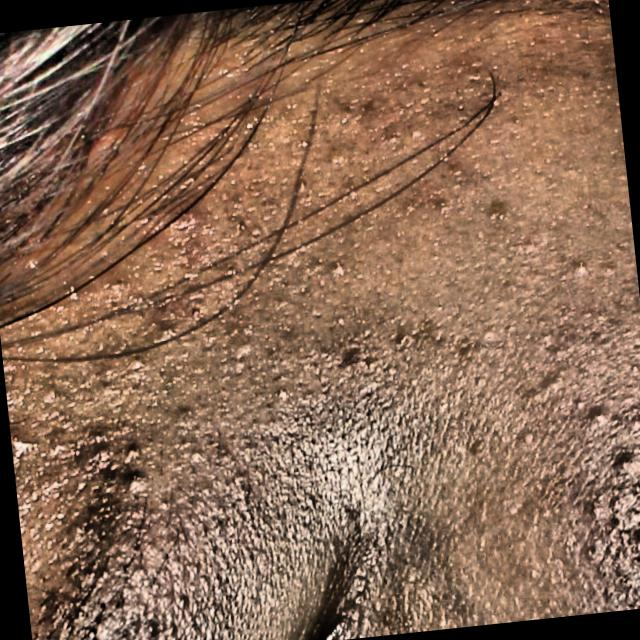whiteheads: (572, 256, 590, 277), (478, 323, 498, 341), (237, 340, 255, 358), (332, 258, 348, 277), (276, 384, 292, 402), (190, 447, 208, 463), (409, 124, 426, 140), (240, 321, 258, 336), (572, 395, 589, 410), (330, 151, 347, 166), (130, 354, 146, 369), (540, 330, 556, 344), (594, 411, 608, 426), (204, 332, 219, 344), (334, 316, 346, 329), (477, 536, 488, 550), (299, 138, 311, 149), (633, 528, 640, 545)
